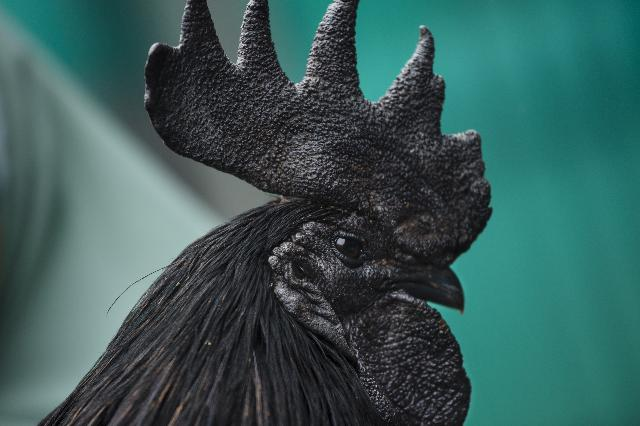Chicken: (39, 1, 491, 426)
